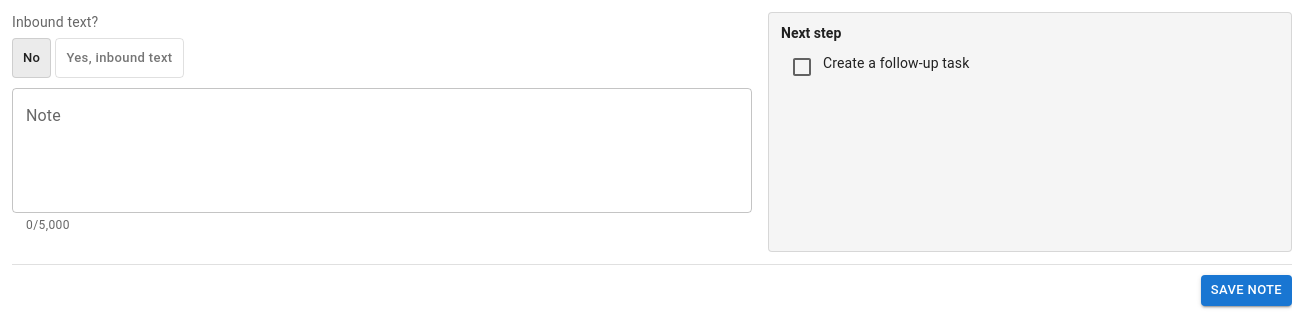
Scenario: LogActivityForm — mode="note" › shows character count and validates empty body
The image size is (1304, 333).
Expected: the text with test id "note-char-count" reads "0/5,000", [26,218,70,232]
What coordinates should you click on to do the following:
click the button with test id "note-save-btn"
I would click on:
 (1246, 290)
Its box is [1201,275,1292,306].
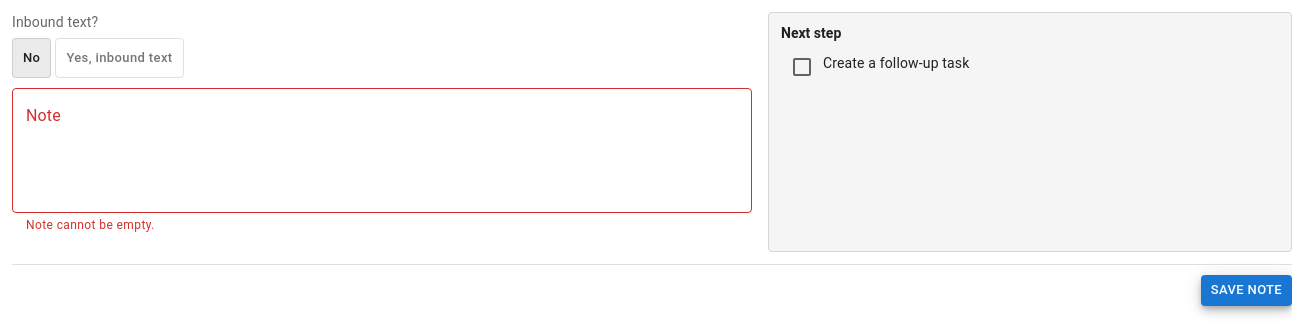
Result: the text "Note cannot be empty." is shown at [26,218,155,232]
